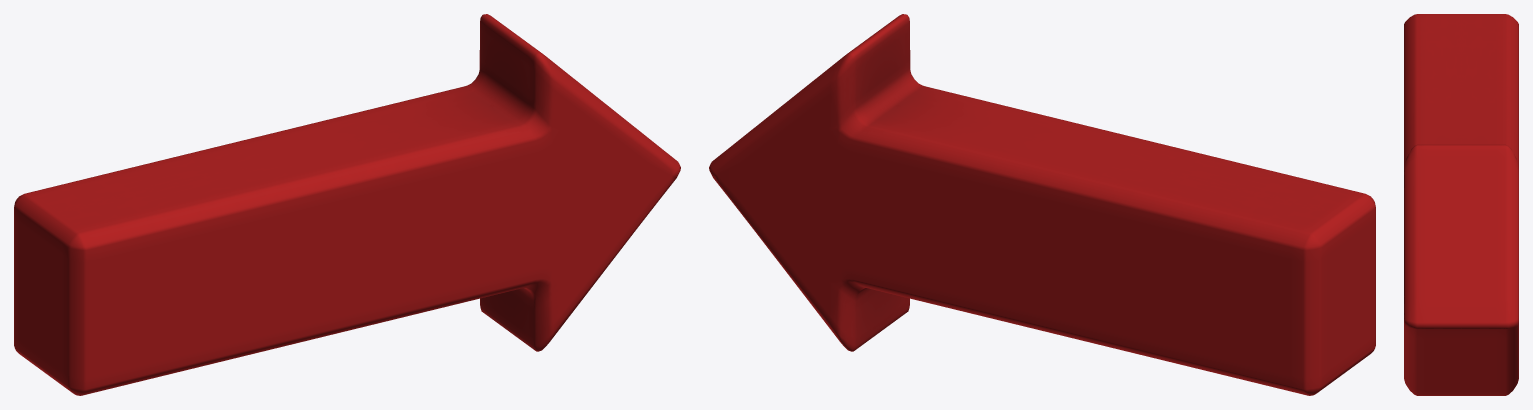
The model's file is arrow.glb.
The picture shows the model from 3 angles, left to right: view 1: azimuth 30°, elevation 25°; view 2: azimuth 150°, elevation 25°; view 3: azimuth 270°, elevation 25°; orthographic projection. The views are drawn at different scales.
Visible parts, largest first — view 1: node_id30; view 2: node_id30; view 3: node_id30.
Boxes of the visible parts, x1=… form: node_id30: x1=14, y1=14, x2=680, y2=395; node_id30: x1=709, y1=14, x2=1375, y2=395; node_id30: x1=1404, y1=14, x2=1518, y2=395.
Size of the model in its own units: 0.512 by 0.2385 by 0.0994.
1 material, 1 textured.
